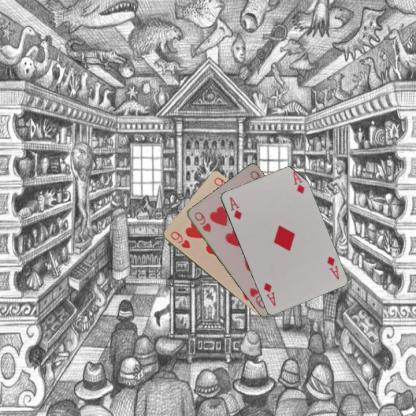9h: (191, 209, 213, 234), (168, 228, 191, 249)
Ad: (227, 194, 243, 221), (324, 254, 340, 281)
